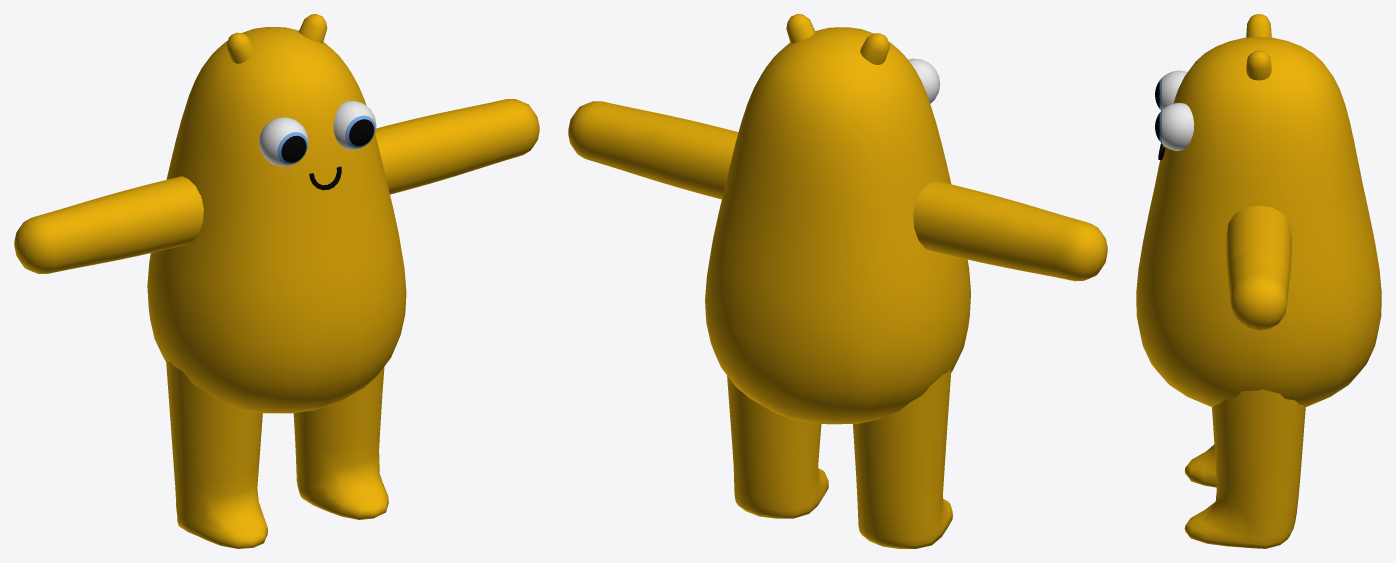
3 renders of one model, left to right at view 1: azimuth 30°, elevation 25°; view 2: azimuth 150°, elevation 25°; view 3: azimuth 270°, elevation 25°, orthographic. The views are drawn at different scales.
Parts seen in each view (by area): view 1: body, Legs, arms, arms_1, eyes, ears; view 2: body, Legs, arms, arms_1, ears, eyes; view 3: body, Legs, arms_1, eyes, ears.
Boxes of the visible parts, box(x1,y1,x2,y2) form: body: box(147, 27, 406, 413); Legs: box(166, 361, 388, 548); arms: box(14, 176, 203, 273); arms_1: box(375, 99, 539, 194); eyes: box(259, 100, 376, 166); ears: box(226, 14, 327, 63); body: box(705, 27, 970, 424); Legs: box(727, 369, 952, 548); arms: box(913, 180, 1107, 281); arms_1: box(568, 101, 738, 199); ears: box(786, 14, 889, 64); eyes: box(908, 58, 940, 103); body: box(1136, 37, 1381, 407); Legs: box(1184, 389, 1305, 548); arms_1: box(1226, 205, 1291, 330); eyes: box(1155, 70, 1194, 150); ears: box(1246, 14, 1271, 80).
Size of the model in its own units: 285 by 254 by 120.
